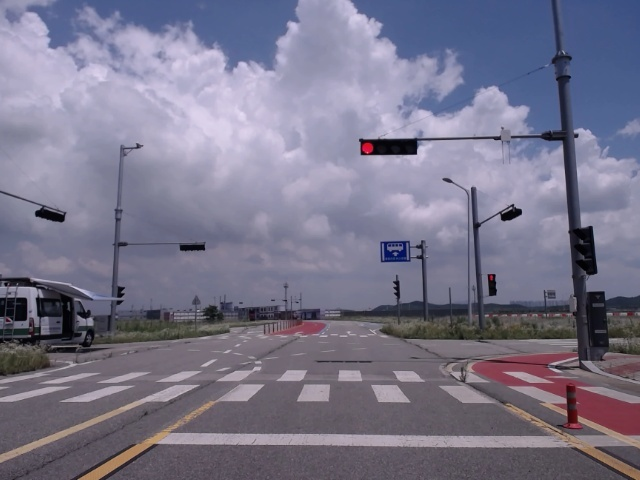red_4: (359, 138, 418, 155)
